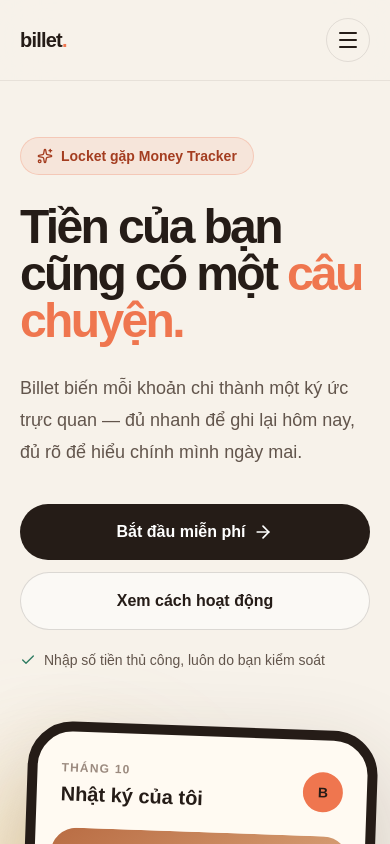
Test: LandingPage › exposes mobile navigation from the menu control
This screenshot has width=390, height=844.
Click the button named "Mở menu": [348, 40] box [326,18,370,62]
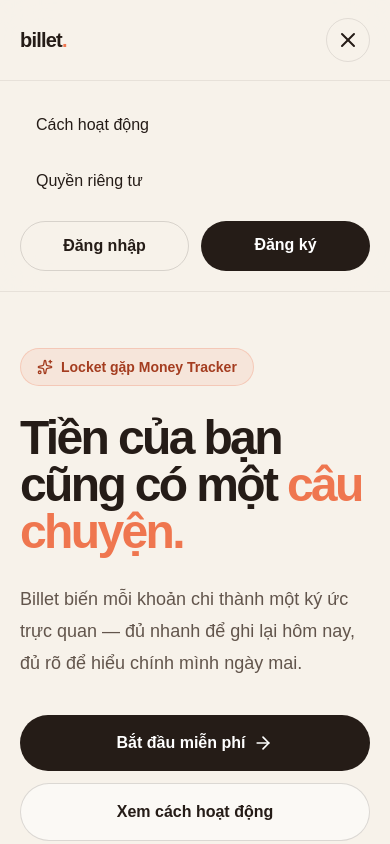
expect the navigation bar named "Di động" is shown: met, box [0,80,389,291]
expect the button named "Đóng menu" is expanded: met, box [326,18,370,62]
